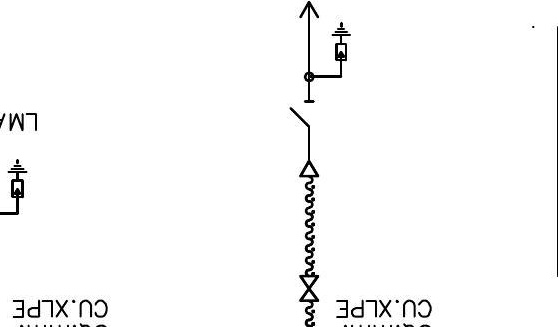terminator_single: (297, 160, 320, 179)
terminator_splicing_kits: (299, 275, 320, 303)
